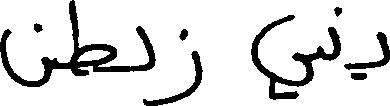X: (252, 10, 313, 104), (0, 18, 50, 91), (71, 0, 114, 80), (173, 24, 200, 105), (137, 21, 155, 105), (328, 2, 341, 65), (376, 27, 389, 71)
